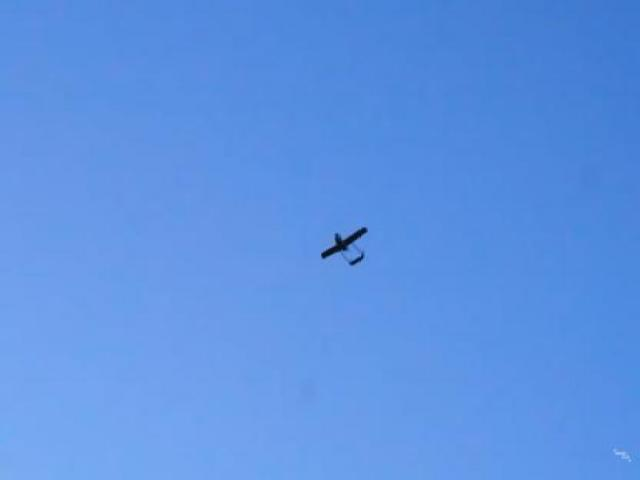uav: (319, 224, 370, 268)
